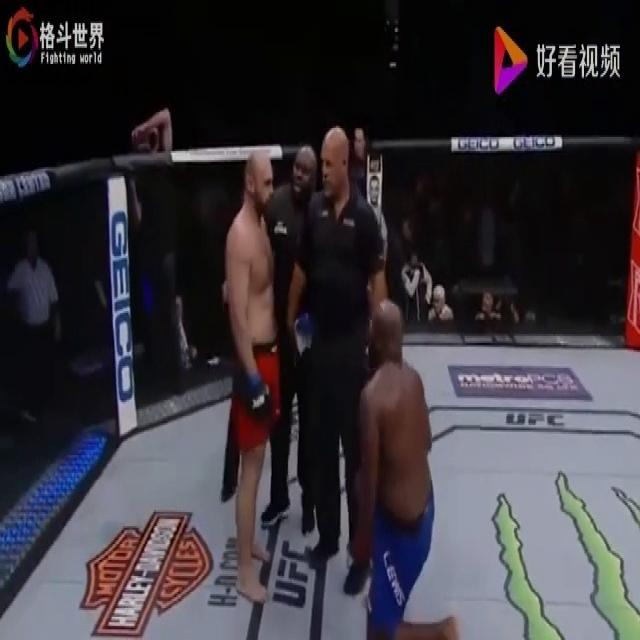non-fight: (287, 121, 392, 598), (350, 286, 460, 640), (225, 150, 288, 604)
